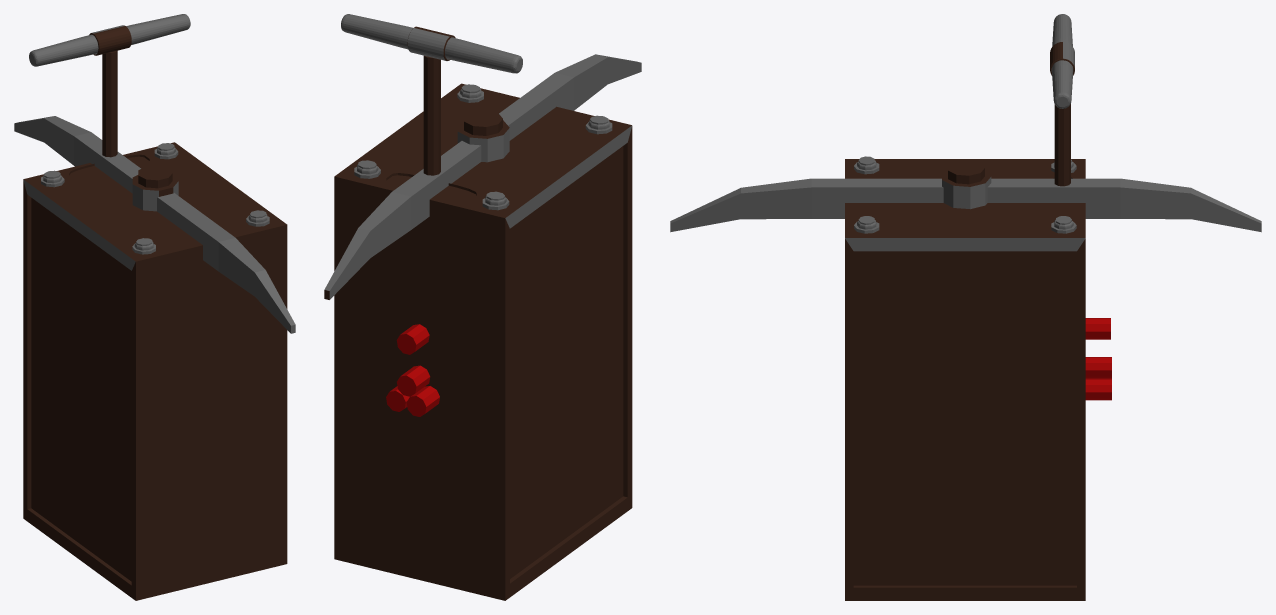
File: MineAssets.fbx
3 views of the same model, side by side, from view 1: azimuth 30°, elevation 25°; view 2: azimuth 150°, elevation 25°; view 3: azimuth 270°, elevation 25° (orthographic). The views are drawn at different scales.
Visible parts, largest first — view 1: TNTActionner, Pioche; view 2: TNTActionner, Pioche, TasDinamyte, Dynamite; view 3: TNTActionner, Pioche, TasDinamyte.
Boxes of the visible parts, x1,y1,x2,y2 form: TNTActionner: (23, 14, 287, 600); Pioche: (14, 116, 295, 333); TNTActionner: (334, 14, 632, 600); Pioche: (324, 54, 641, 299); TasDinamyte: (386, 365, 439, 416); Dynamite: (396, 324, 429, 354); TNTActionner: (845, 14, 1085, 600); Pioche: (670, 160, 1261, 232); TasDinamyte: (1085, 357, 1111, 400).
Bounding box in the file's own units: 25.47 × 78.75 × 78.37.
